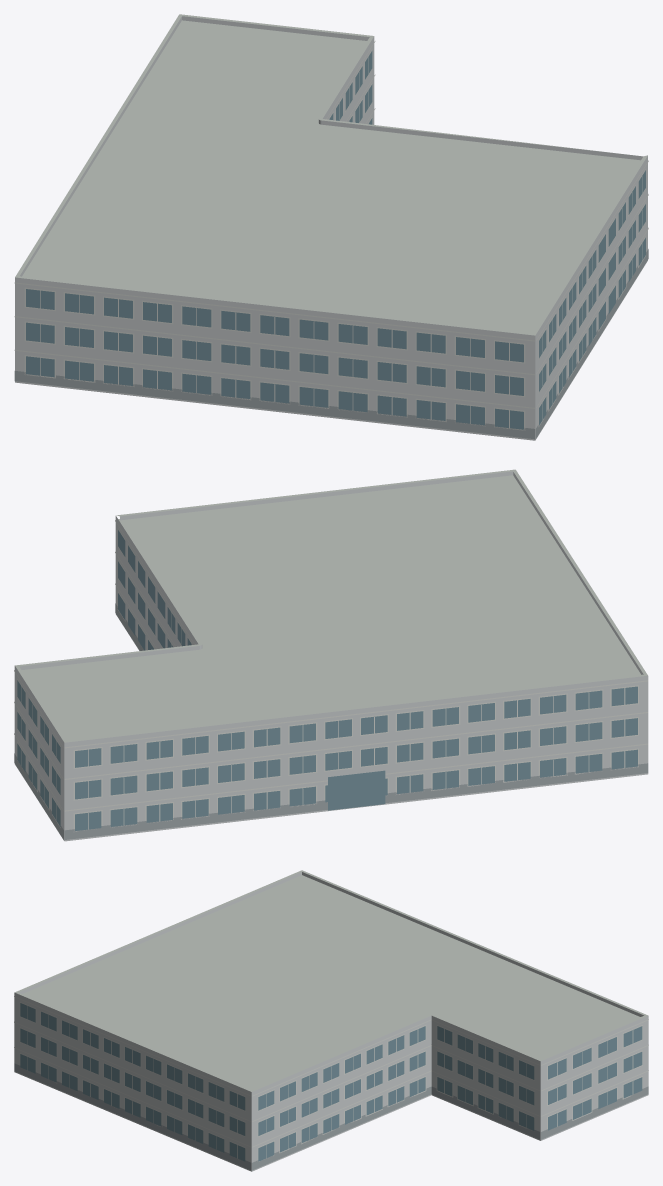
Rendered from public-b986cd30-4861-4bf2-abd2-d73188a2fe72.glb.
3 renders of one model, top to bottom at view 1: azimuth 30°, elevation 25°; view 2: azimuth 150°, elevation 25°; view 3: azimuth 270°, elevation 25°, orthographic. The views are drawn at different scales.
Parts seen in each view (by area): view 1: public-b986cd30-4861-4bf2-abd2-d73188a2fe72; view 2: public-b986cd30-4861-4bf2-abd2-d73188a2fe72; view 3: public-b986cd30-4861-4bf2-abd2-d73188a2fe72.
Part boxes in pixels (x1,y1,x2,y2): public-b986cd30-4861-4bf2-abd2-d73188a2fe72: [14, 14, 648, 440]; public-b986cd30-4861-4bf2-abd2-d73188a2fe72: [14, 469, 648, 841]; public-b986cd30-4861-4bf2-abd2-d73188a2fe72: [14, 870, 648, 1171].
Bounding box in the file's own units: 54.74 × 9.15 × 66.06.
